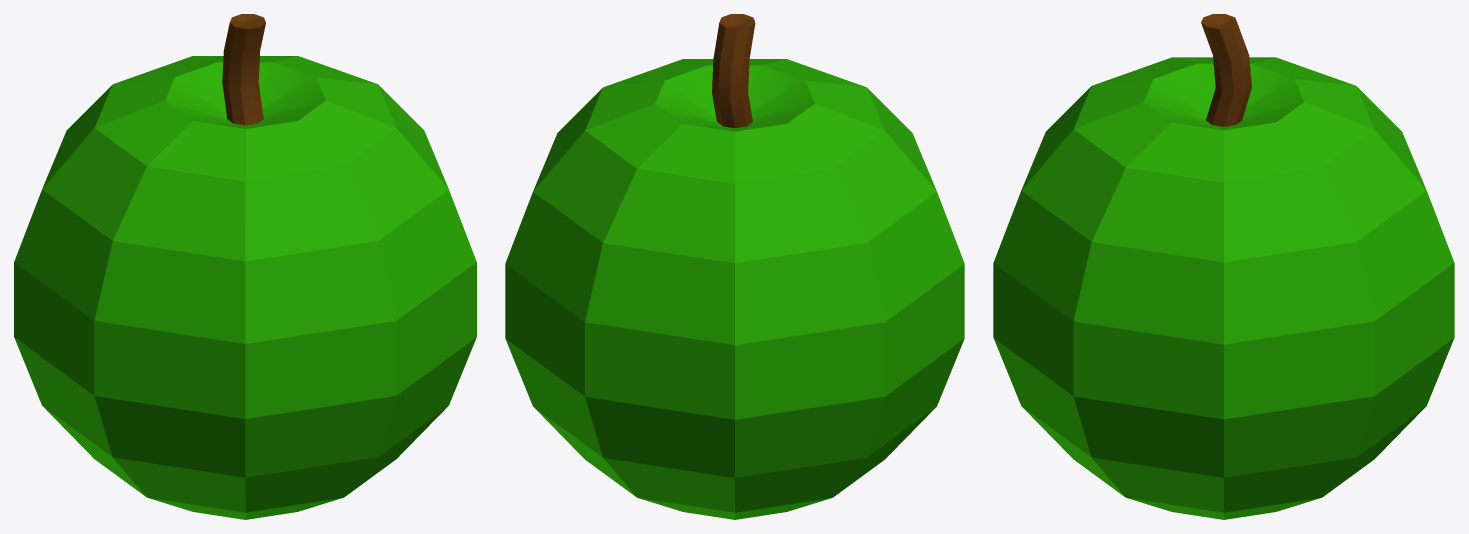
Rendered from apple2.fbx.
The picture shows the model from 3 angles, left to right: view 1: azimuth 30°, elevation 25°; view 2: azimuth 150°, elevation 25°; view 3: azimuth 270°, elevation 25°; orthographic projection.
Parts seen in each view (by area): view 1: apple2; view 2: apple2; view 3: apple2.
Boxes of the visible parts, x1=… form: apple2: x1=14, y1=14, x2=476, y2=519; apple2: x1=505, y1=14, x2=964, y2=519; apple2: x1=993, y1=14, x2=1454, y2=519.
Bounding box in the file's own units: 111 × 129 × 113.
